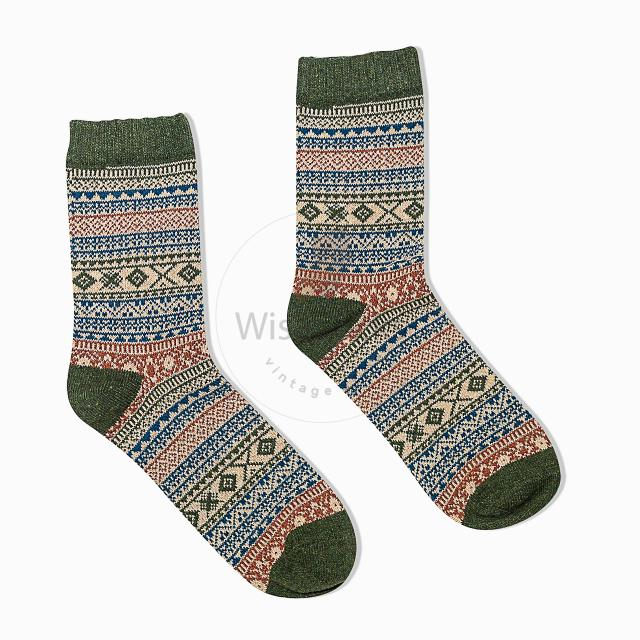sock: (64, 111, 358, 598), (286, 45, 563, 530)
